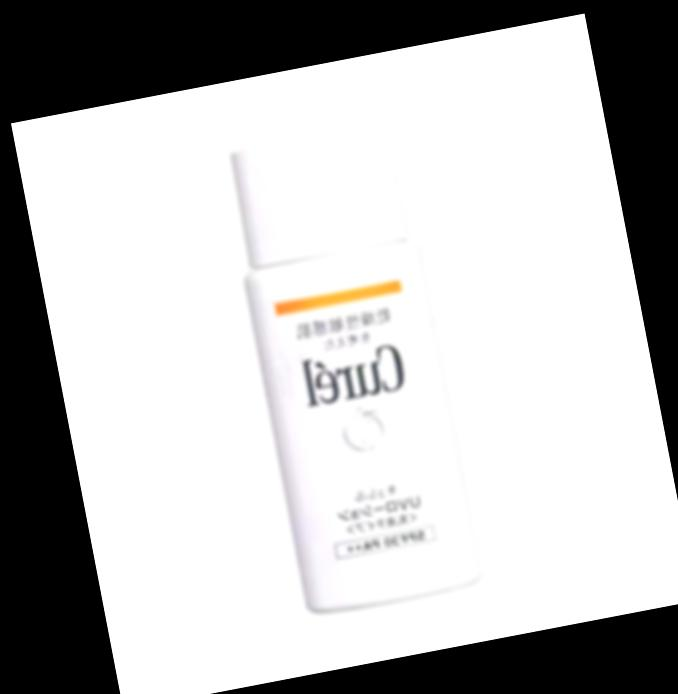cosmetic: (218, 116, 484, 612)
